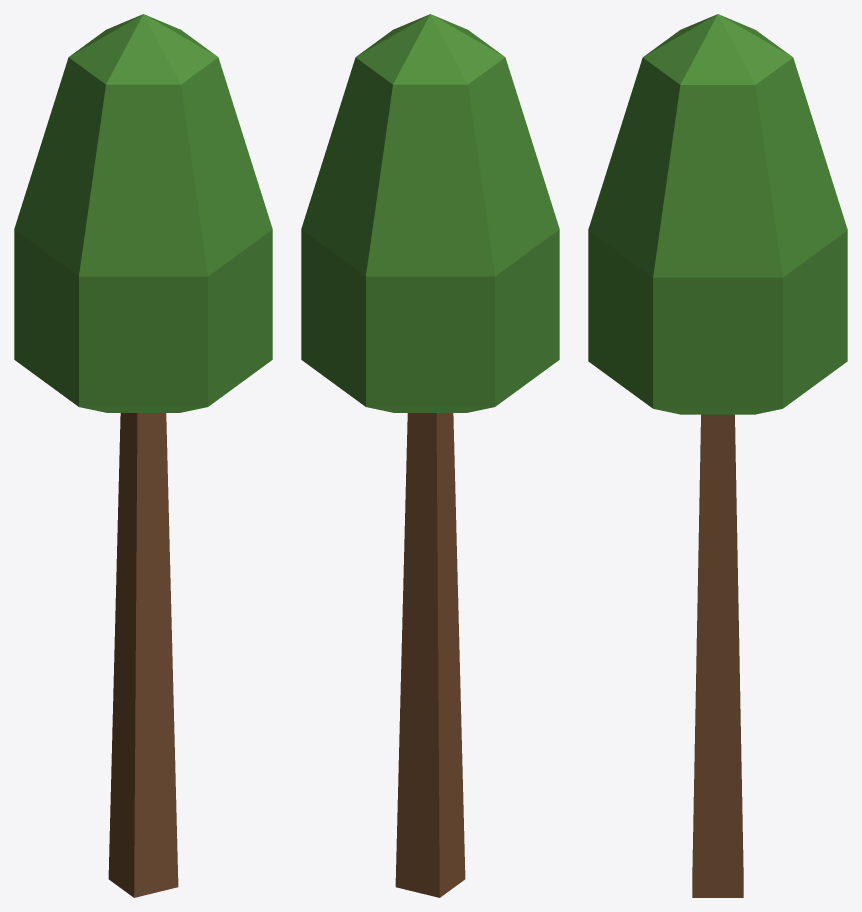
Rendered from tree_simple.glb.
3 renders of one model, left to right at view 1: azimuth 30°, elevation 25°; view 2: azimuth 150°, elevation 25°; view 3: azimuth 270°, elevation 25°, orthographic.
Parts seen in each view (by area): view 1: tree_simple; view 2: tree_simple; view 3: tree_simple.
Boxes of the visible parts, x1=… form: tree_simple: x1=14, y1=14, x2=272, y2=897; tree_simple: x1=301, y1=14, x2=559, y2=897; tree_simple: x1=588, y1=14, x2=847, y2=897.
Bounding box in the file's own units: 0.3546 × 1.52 × 0.4095.
